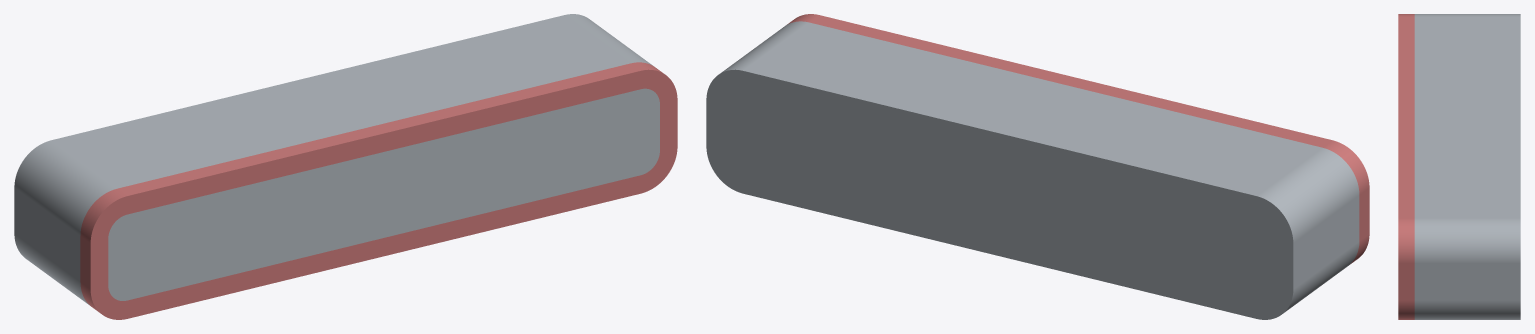
Rendered from step_03.glb.
3 views of the same model, side by side, from view 1: azimuth 30°, elevation 25°; view 2: azimuth 150°, elevation 25°; view 3: azimuth 270°, elevation 25° (orthographic). The views are drawn at different scales.
Parts seen in each view (by area): view 1: part__head rest, removed__head rest; view 2: part__head rest, removed__head rest; view 3: part__head rest, removed__head rest.
Part boxes in pixels (box(x1,y1,x2,y2)): part__head rest: box(14, 14, 659, 305); removed__head rest: box(80, 62, 677, 319); part__head rest: box(706, 21, 1359, 319); removed__head rest: box(787, 14, 1369, 264); part__head rest: box(1414, 14, 1520, 319); removed__head rest: box(1398, 14, 1414, 319).
Bounding box in the file's own units: 400 × 80 × 90.
